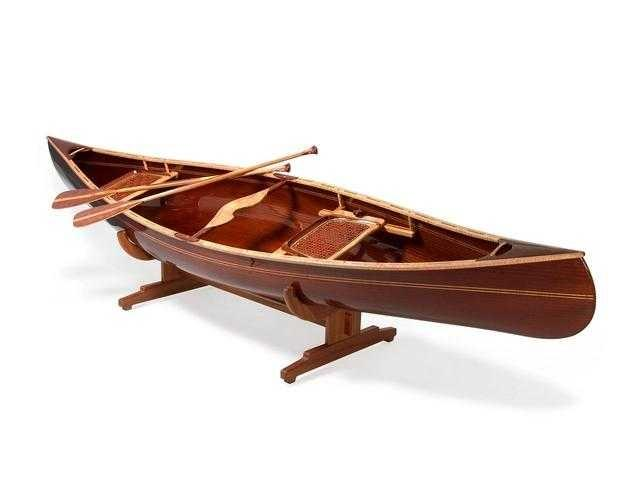kayak: (45, 137, 593, 385)
